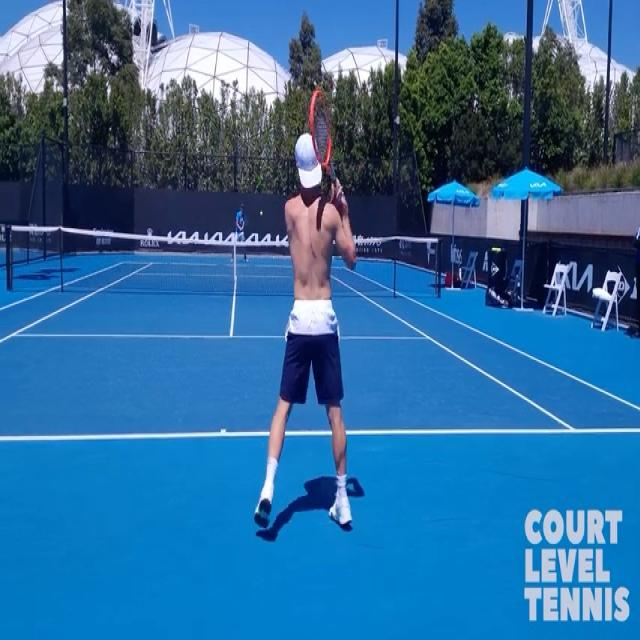backhand-finish: (258, 86, 354, 529)
